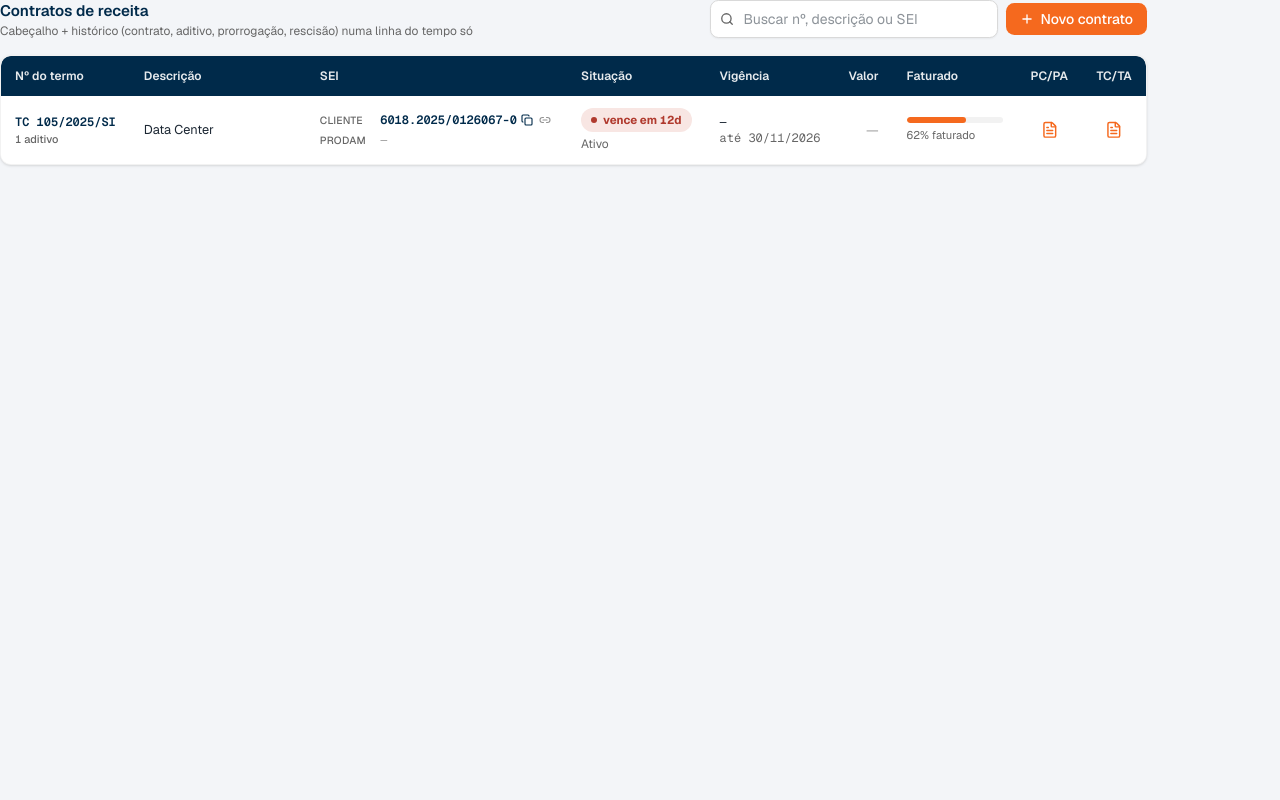
AbaContratos › PC/PA e TC/TA abrem a mesma janela de escolha, cada uma com os seus documentos (não o PDF direto)
The image size is (1280, 800).
Check: the button named "PC/PA do TC 105/2025/SI" is shown, box [1036, 117, 1062, 143]
Click the button named "TC/TA do TC 105/2025/SI" at (1114, 130), box [1101, 117, 1127, 143]
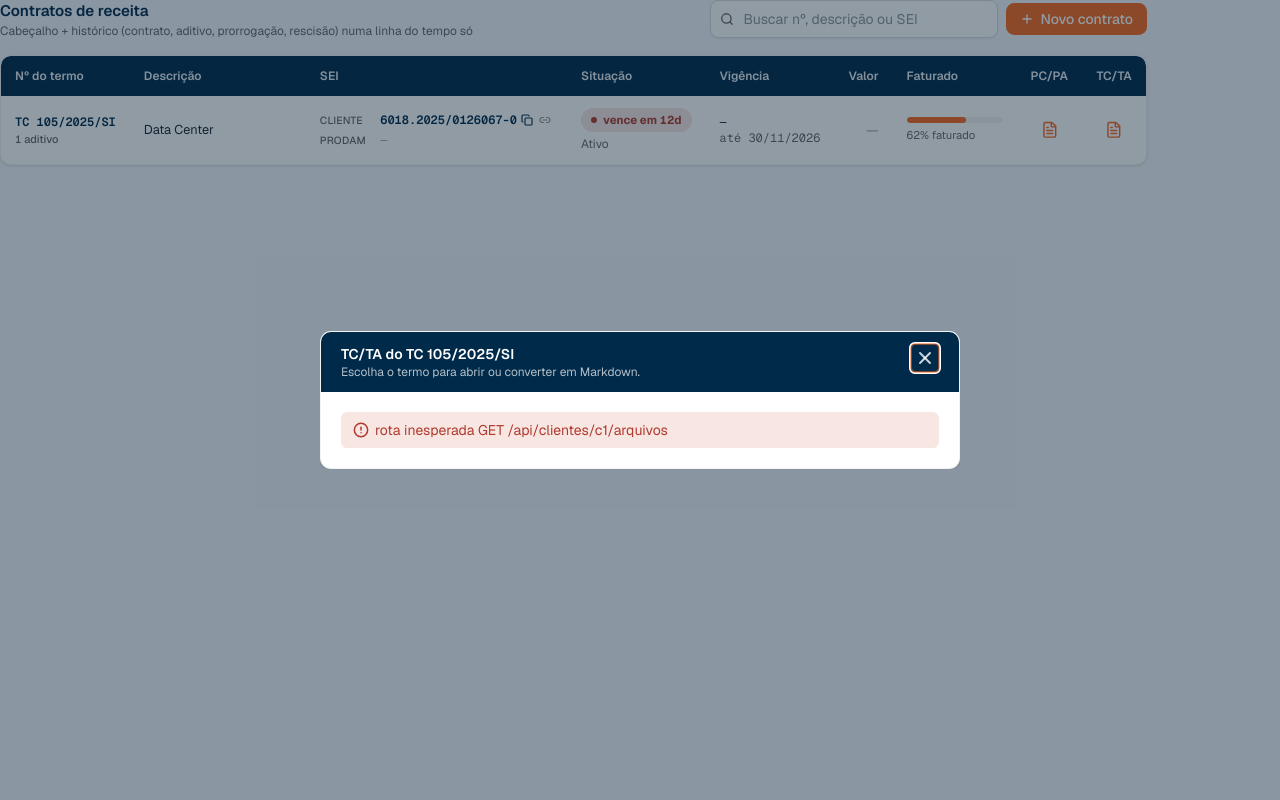
Check: the heading "TC/TA do TC 105/2025/SI" is shown, box [341, 345, 514, 363]
